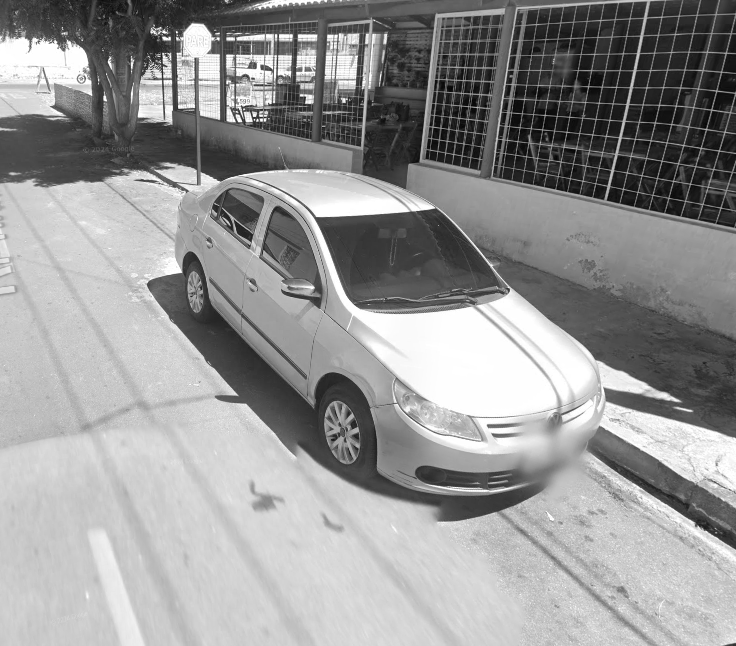car: (147, 141, 611, 513)
